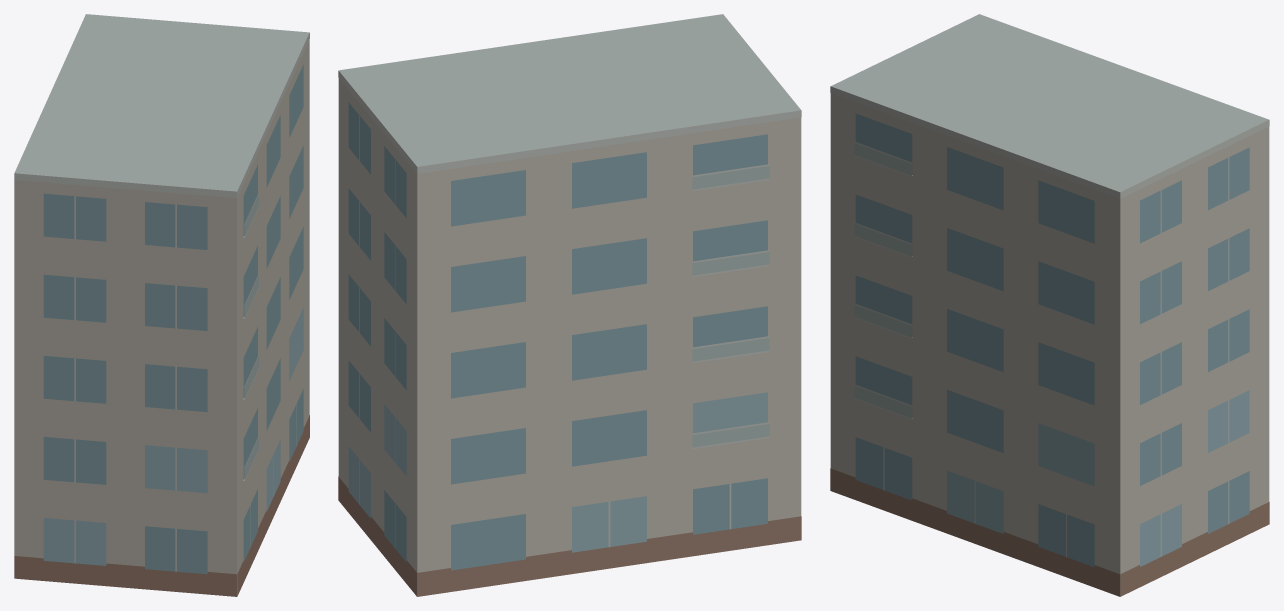
Rendered from survey-upis-32892523.glb.
3 renders of one model, left to right at view 1: azimuth 30°, elevation 25°; view 2: azimuth 150°, elevation 25°; view 3: azimuth 270°, elevation 25°, orthographic. The views are drawn at different scales.
Parts seen in each view (by area): view 1: survey-upis-32892523.tmp; view 2: survey-upis-32892523.tmp; view 3: survey-upis-32892523.tmp.
Part boxes in pixels (left/top/right/bottom): survey-upis-32892523.tmp: left=14, top=14, right=309, bottom=596; survey-upis-32892523.tmp: left=338, top=14, right=801, bottom=596; survey-upis-32892523.tmp: left=830, top=14, right=1269, bottom=596.
Bounding box in the file's own units: 14.09 × 14.9 × 14.65.
